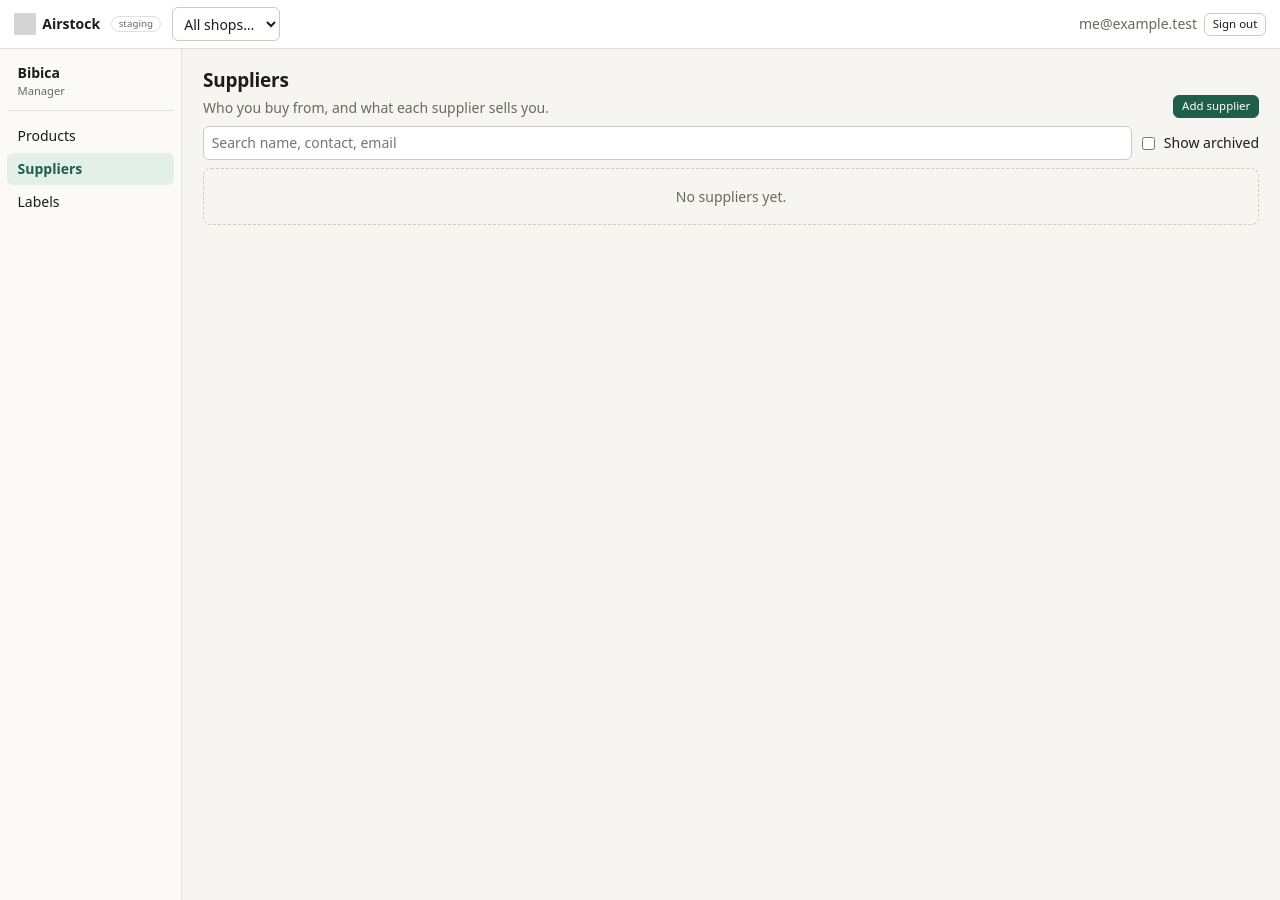
suppliers page › creates a supplier
Expected: the text "No suppliers yet." is shown, x1=203 y1=168 x2=1259 y2=226
Click the button "Add supplier" at [1216, 106], box x1=1173 y1=95 x2=1259 y2=118
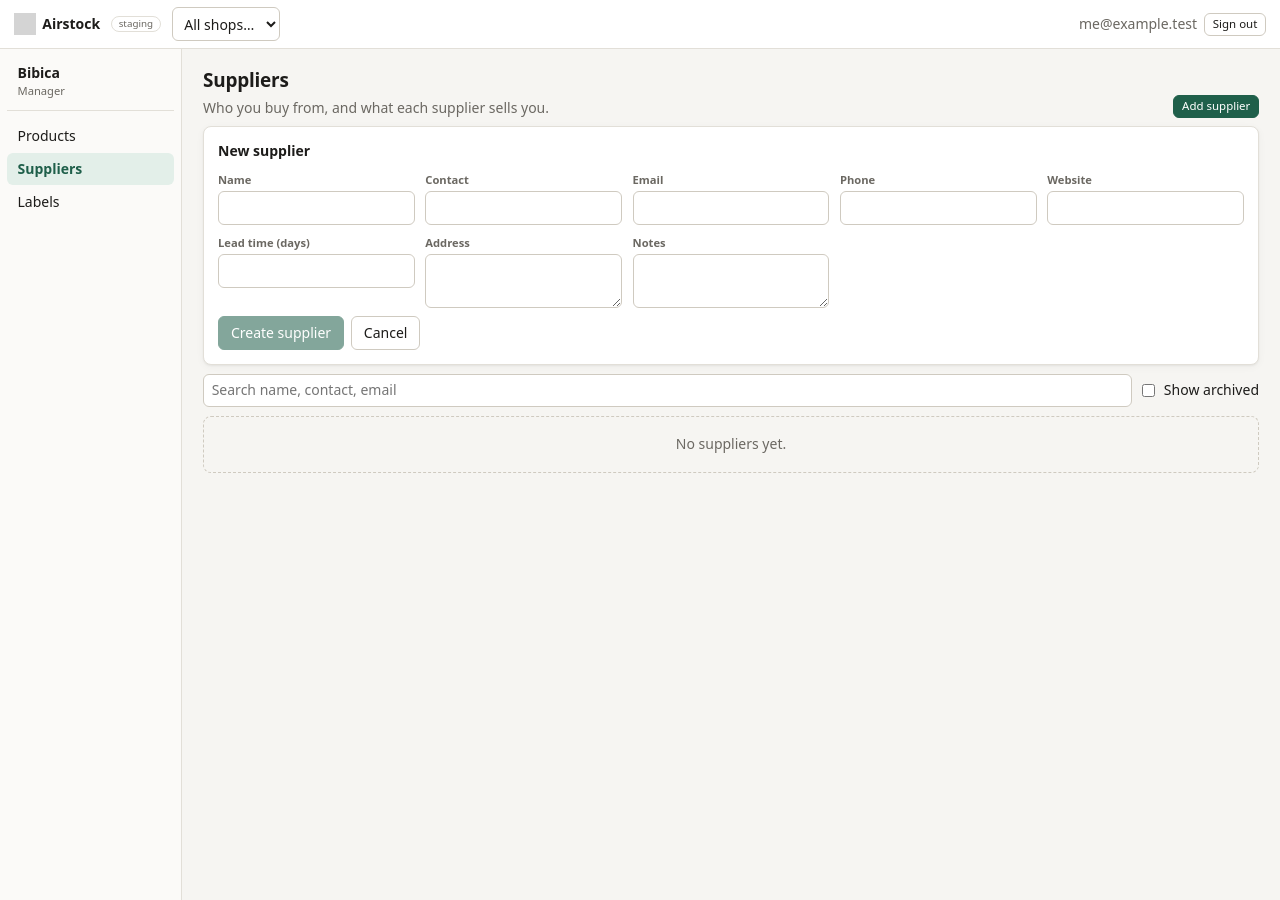
Type "Ceramics Ltd" into the field labelled "Name" at [316, 208], box x1=218 y1=191 x2=415 y2=225
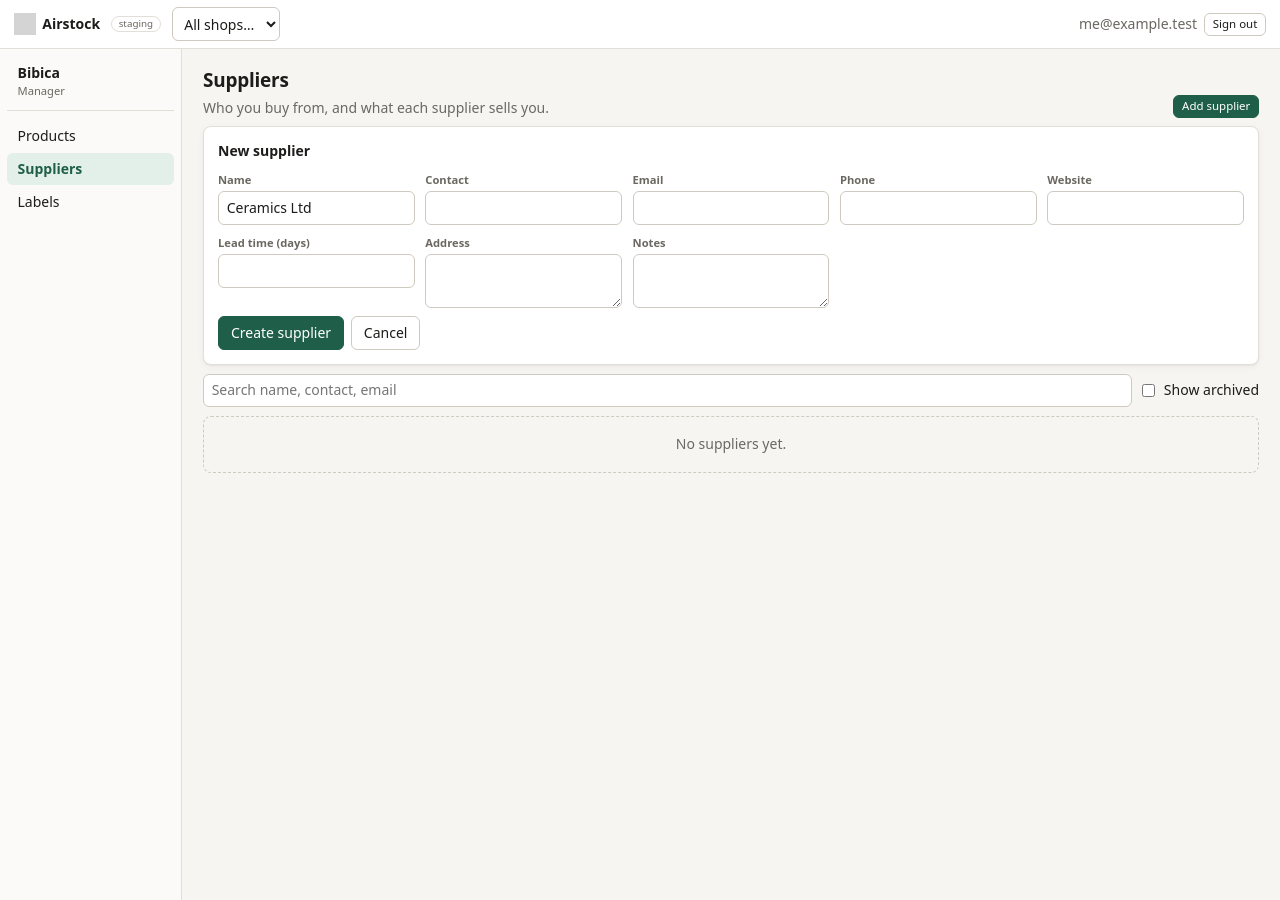
Type "10" into the field labelled "Lead time (days)" at [316, 271], box x1=218 y1=254 x2=415 y2=288
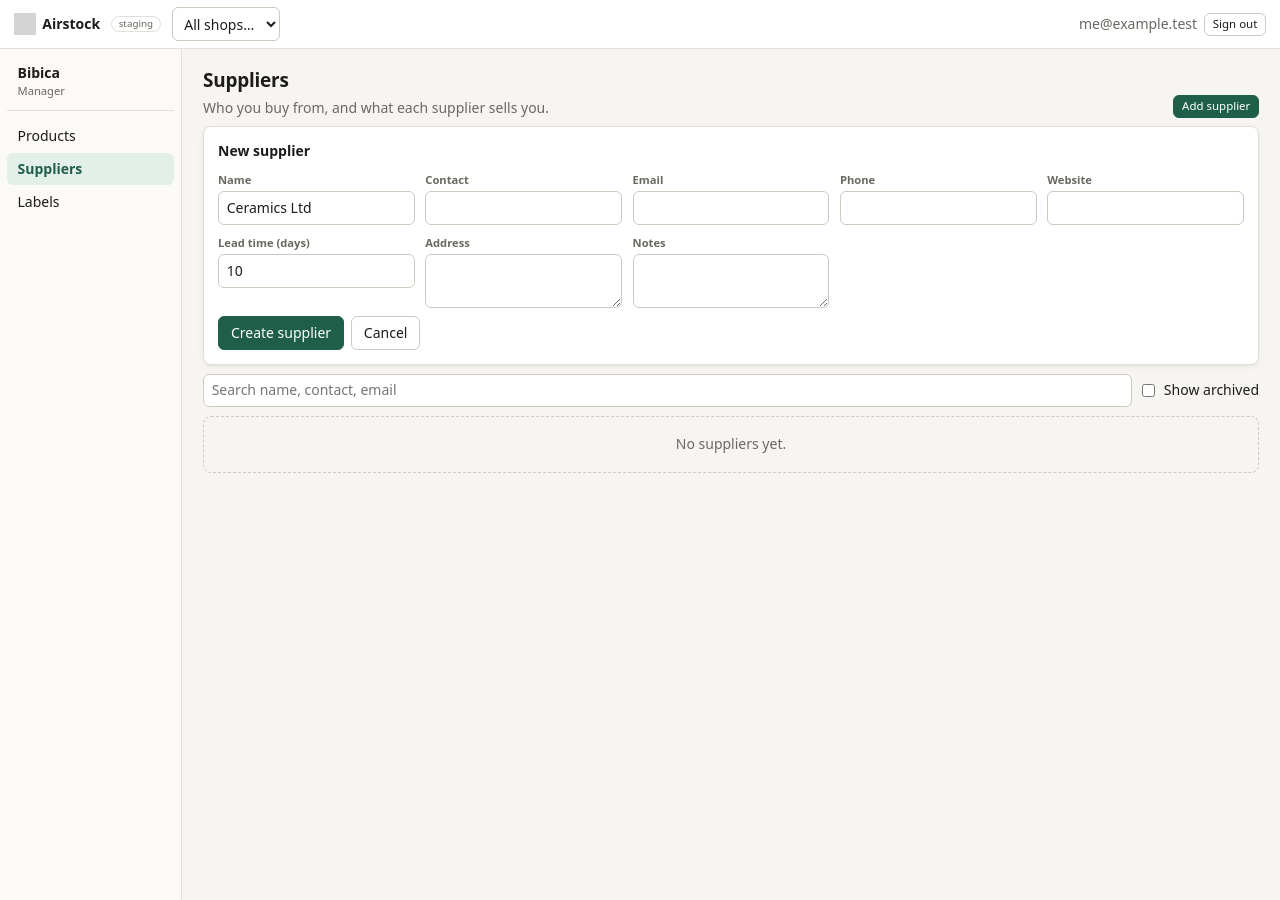
Click the button "Create supplier" at [281, 333], box x1=218 y1=316 x2=344 y2=350
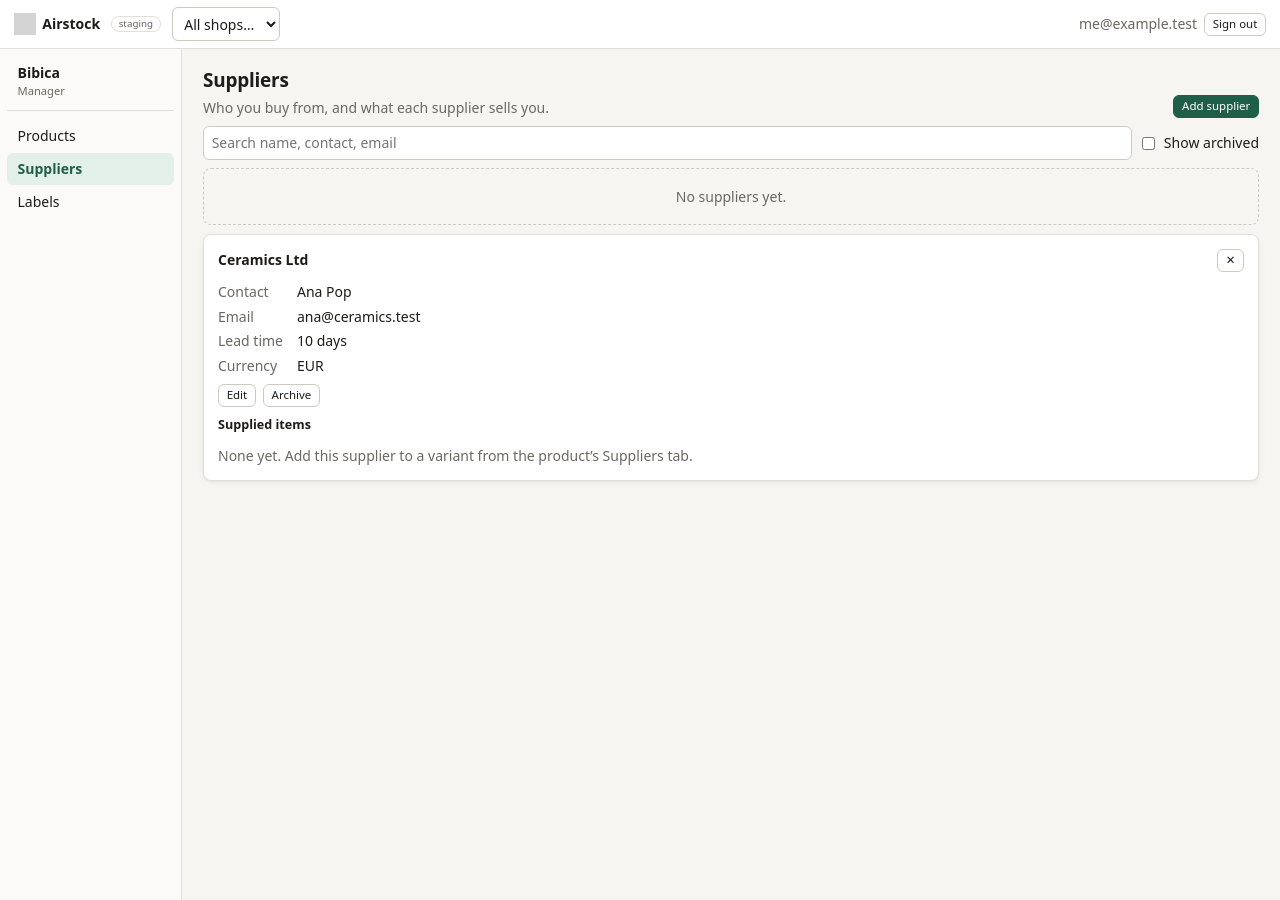
Expected: the text "None yet" is shown, x1=218 y1=446 x2=693 y2=465
